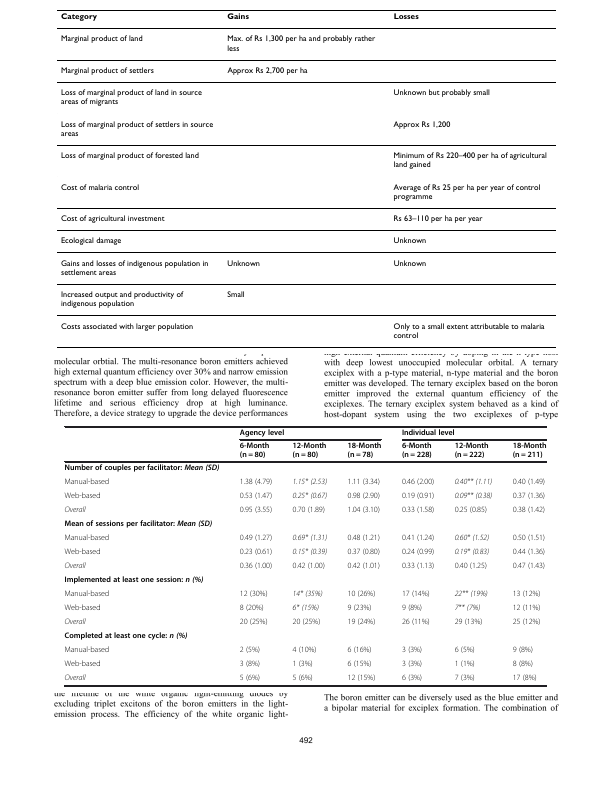borderless: (56, 8, 556, 347), (63, 425, 546, 685)
cell: (59, 120, 214, 139), (392, 151, 547, 170), (392, 322, 545, 341), (226, 35, 376, 54), (59, 259, 209, 278), (392, 183, 541, 202), (59, 88, 202, 107), (59, 290, 184, 309), (64, 464, 220, 474), (64, 520, 213, 530), (59, 151, 199, 161), (64, 576, 204, 586), (59, 322, 194, 332), (64, 632, 188, 642), (59, 214, 165, 224), (392, 88, 490, 98), (59, 66, 154, 76), (392, 214, 483, 224), (226, 66, 308, 76), (59, 183, 140, 193), (59, 35, 143, 44), (292, 442, 327, 461), (347, 442, 382, 461), (454, 442, 489, 461), (512, 442, 547, 461), (401, 442, 433, 461), (392, 120, 451, 130), (239, 442, 270, 461), (59, 237, 122, 246), (401, 429, 456, 438), (239, 429, 285, 438), (64, 478, 110, 487), (64, 534, 110, 543), (64, 590, 110, 599), (64, 646, 110, 655), (454, 478, 493, 487), (454, 492, 493, 501), (392, 259, 427, 269), (59, 13, 97, 22), (226, 259, 260, 269), (64, 492, 101, 501), (64, 548, 101, 557), (64, 604, 101, 613), (64, 660, 101, 669), (292, 478, 328, 487), (292, 492, 328, 501), (292, 534, 328, 543), (454, 534, 490, 543), (292, 548, 328, 557), (454, 548, 490, 557), (392, 237, 427, 246), (454, 590, 489, 599), (239, 478, 273, 487), (347, 478, 381, 487), (401, 478, 435, 487), (512, 478, 546, 487), (239, 492, 273, 501), (347, 492, 381, 501), (401, 492, 435, 501), (512, 492, 546, 501), (239, 506, 273, 515), (292, 506, 326, 515), (347, 506, 381, 515), (401, 506, 435, 515), (454, 506, 488, 515), (512, 506, 546, 515), (239, 534, 273, 543), (347, 534, 381, 543), (401, 534, 435, 543), (512, 534, 546, 543), (239, 548, 273, 557), (347, 548, 381, 557), (401, 548, 435, 557), (512, 548, 546, 557), (239, 562, 273, 571), (292, 562, 326, 571), (347, 562, 381, 571), (401, 562, 435, 571), (454, 562, 488, 571), (512, 562, 546, 571), (292, 590, 323, 599), (401, 590, 431, 599), (401, 618, 431, 627), (239, 590, 268, 599), (347, 590, 376, 599), (512, 590, 541, 599), (512, 604, 541, 613), (239, 618, 268, 627), (292, 618, 321, 627), (347, 618, 376, 627), (454, 618, 483, 627), (512, 618, 541, 627), (347, 674, 376, 683), (292, 604, 320, 613), (392, 13, 419, 22), (454, 604, 481, 613), (239, 604, 265, 613), (512, 674, 538, 683), (347, 604, 372, 613), (292, 646, 317, 655), (347, 646, 372, 655), (347, 660, 372, 669), (226, 13, 249, 22), (64, 506, 87, 515), (64, 562, 87, 571), (64, 618, 87, 627), (64, 674, 87, 683), (401, 604, 423, 613), (239, 646, 261, 655), (401, 646, 423, 655), (454, 646, 476, 655), (512, 646, 534, 655), (239, 660, 261, 669), (292, 660, 314, 669), (401, 660, 423, 669), (454, 660, 476, 669), (512, 660, 534, 669), (239, 674, 261, 683), (292, 674, 314, 683), (401, 674, 423, 683), (454, 674, 476, 683), (226, 290, 245, 300)
